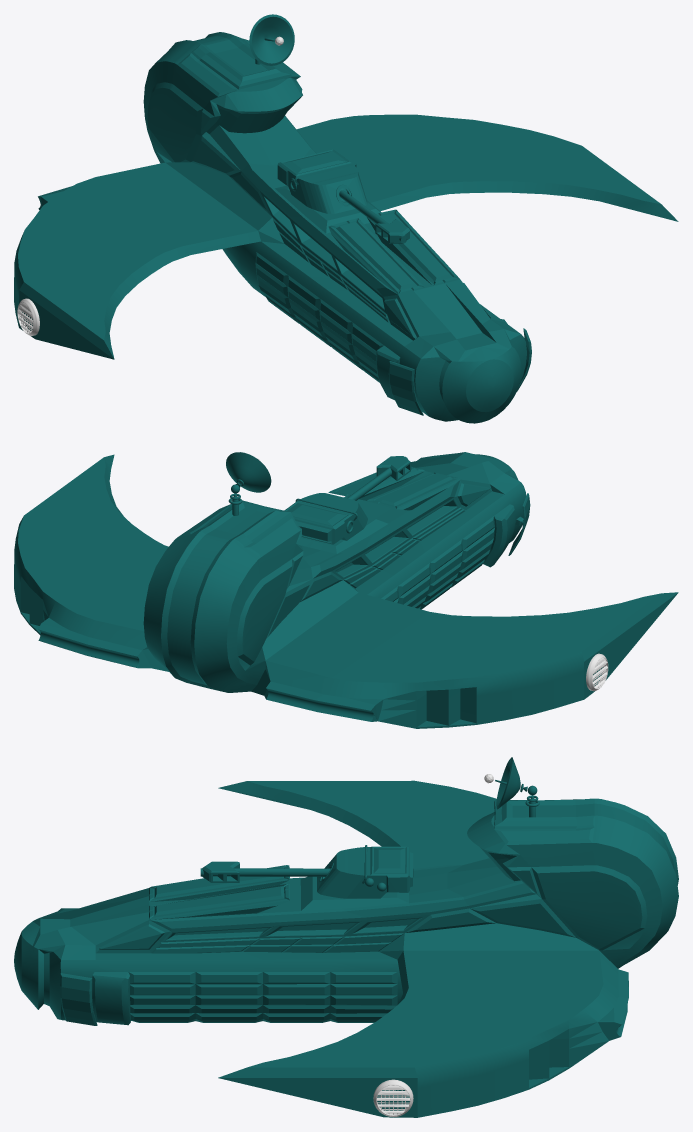
Rendered from SShip2.8.fbx.
3 views of the same model, one above another, from view 1: azimuth 30°, elevation 25°; view 2: azimuth 150°, elevation 25°; view 3: azimuth 270°, elevation 25° (orthographic). The views are drawn at different scales.
Visible parts, largest first — view 1: ship, Башня башни, тарелка, ship.001, Башня башни.001; view 2: ship, Башня башни, тарелка, Башня башни.001; view 3: ship, Башня башни, Башня башни.001, ship.002, Circle, тарелка.
Part boxes in pixels (x1=…): ship: x1=14, y1=32, x2=678, y2=423; Башня башни: x1=277, y1=149, x2=367, y2=213; тарелка: x1=249, y1=14, x2=294, y2=65; ship.001: x1=388, y1=361, x2=423, y2=415; Башня башни.001: x1=339, y1=190, x2=409, y2=243; ship: x1=14, y1=452, x2=678, y2=728; Башня башни: x1=284, y1=493, x2=367, y2=544; тарелка: x1=226, y1=452, x2=271, y2=492; Башня башни.001: x1=347, y1=456, x2=411, y2=500; ship: x1=14, y1=780, x2=678, y2=1117; Башня башни: x1=317, y1=845, x2=413, y2=898; Башня башни.001: x1=200, y1=861, x2=330, y2=882; ship.002: x1=60, y1=973, x2=97, y2=1025; Circle: x1=376, y1=1084, x2=410, y2=1115; тарелка: x1=495, y1=757, x2=527, y2=809.
Size of the model in its own units: 9508 by 3788 by 9047.
